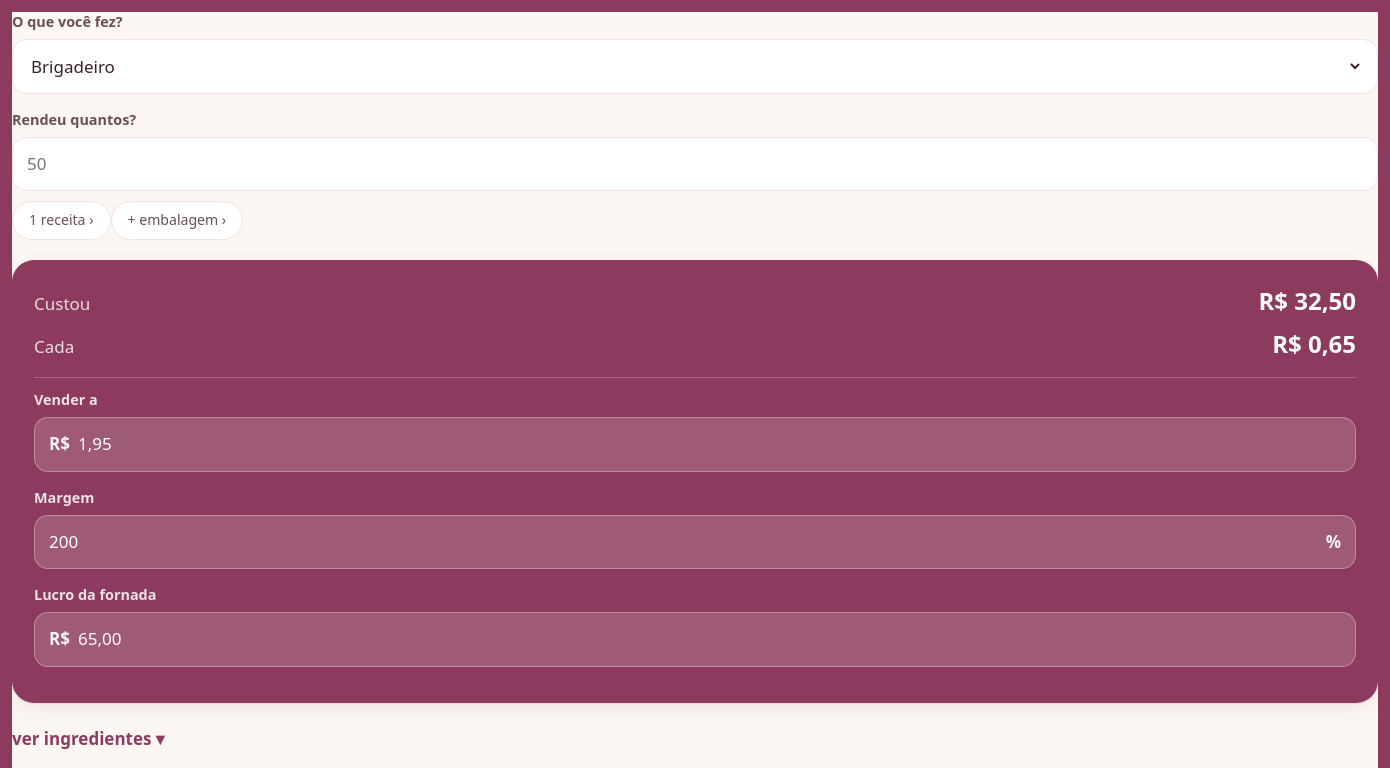
Test case: Calculadora › mudar o rendimento muda o preço por unidade e não o total
Type "65" into the field labelled "Rendeu quantos?" at [695, 164], box [27,138,1363,190]
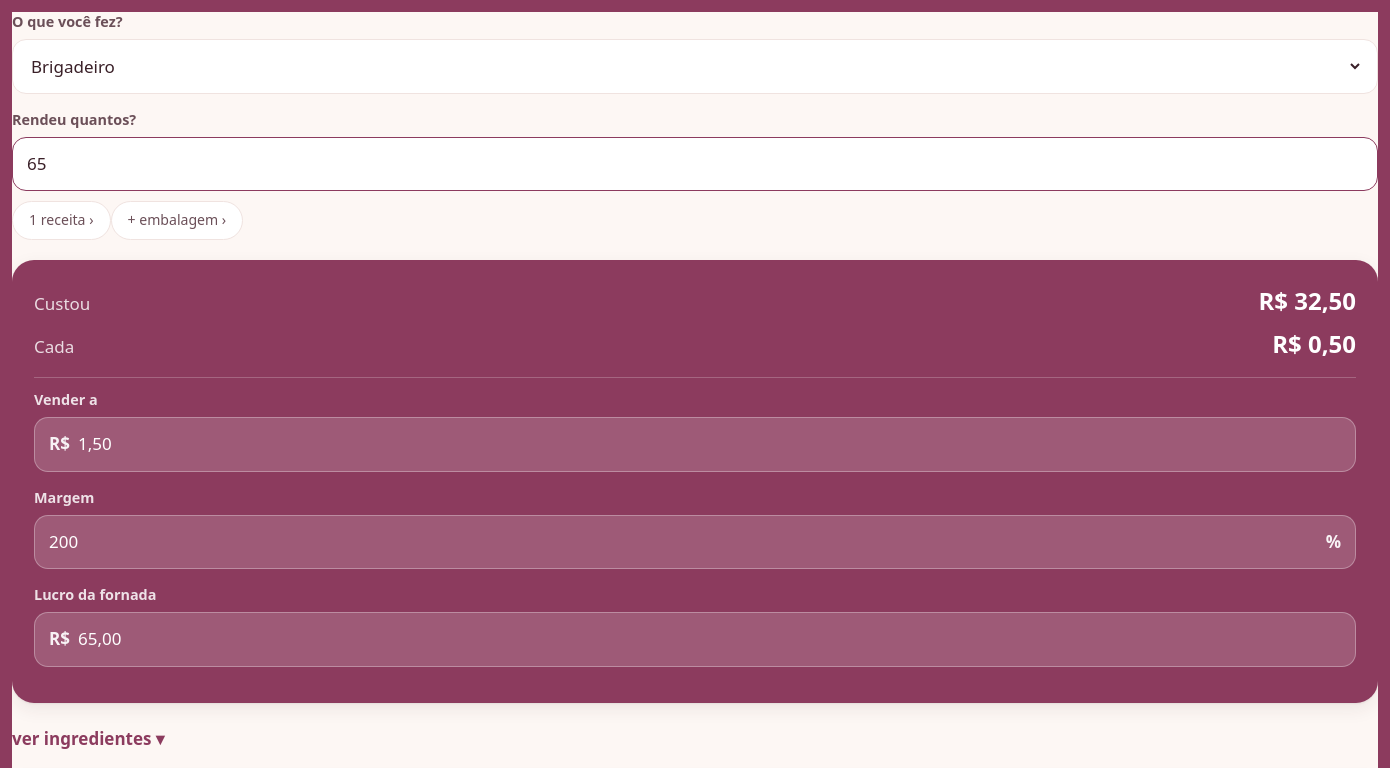
expect the text with test id "custo-total" reads "R$ 32,50": met, box [1258,284,1356,317]
expect the text with test id "custo-cada" reads "R$ 0,50": met, box [1272,327,1356,360]
